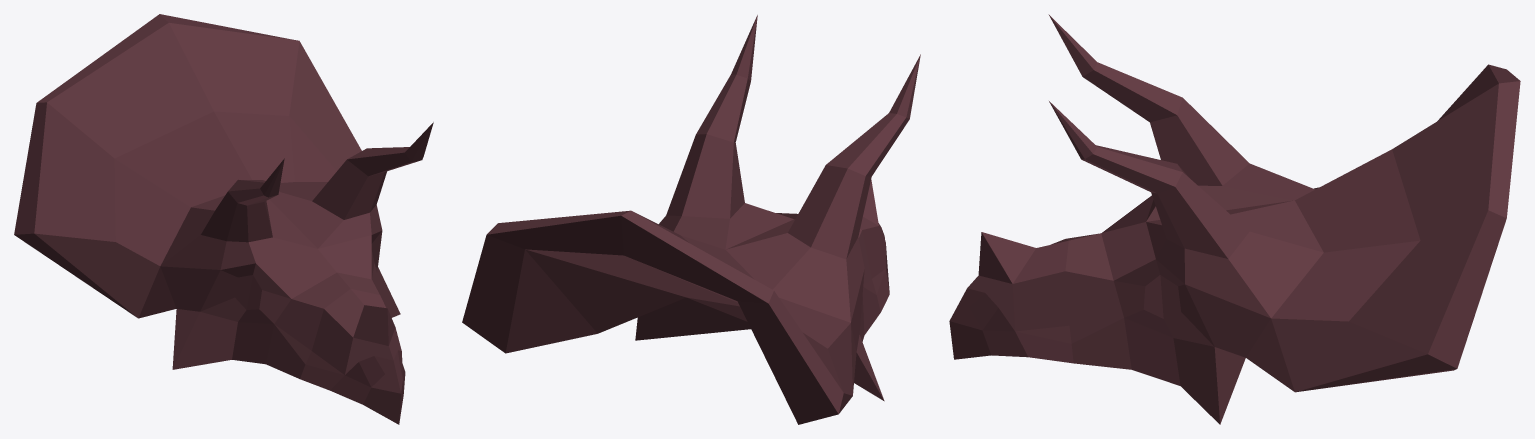
The model's file is SM_Skull_Triceratops.fbx.
The picture shows the model from 3 angles, left to right: view 1: azimuth 30°, elevation 25°; view 2: azimuth 150°, elevation 25°; view 3: azimuth 270°, elevation 25°; orthographic projection. The views are drawn at different scales.
Parts seen in each view (by area): view 1: SM_Skull_Triceratops; view 2: SM_Skull_Triceratops; view 3: SM_Skull_Triceratops.
Boxes of the visible parts, <box> form: SM_Skull_Triceratops: <box>14,14,433,424</box>; SM_Skull_Triceratops: <box>462,15,920,424</box>; SM_Skull_Triceratops: <box>949,14,1520,424</box>.
Size of the model in its own units: 1.55 by 1.1 by 1.89.
